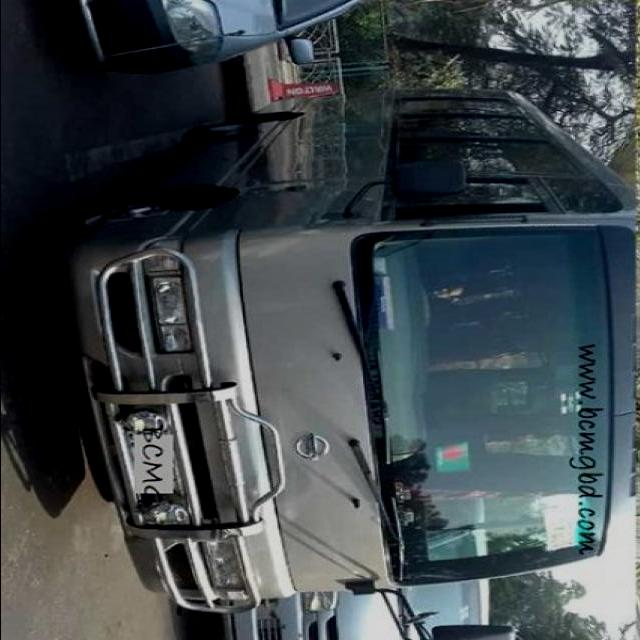bus: (42, 90, 639, 640)
